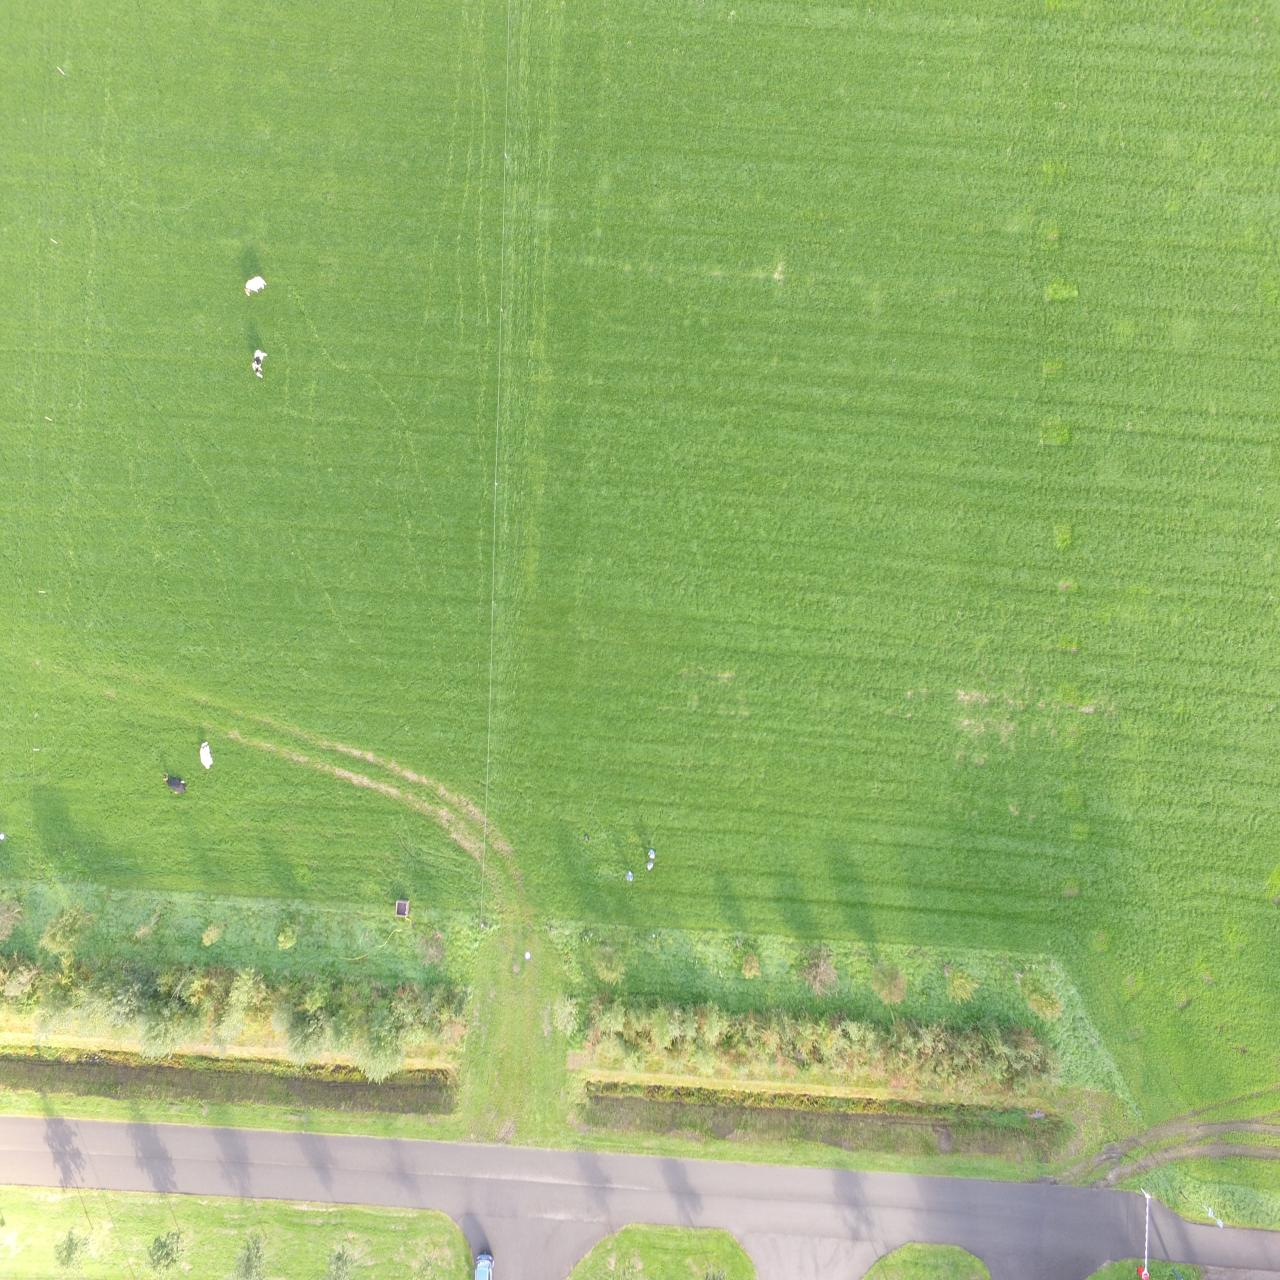cow: (157, 771, 188, 796), (198, 737, 215, 772), (244, 276, 266, 296), (252, 349, 266, 380)
